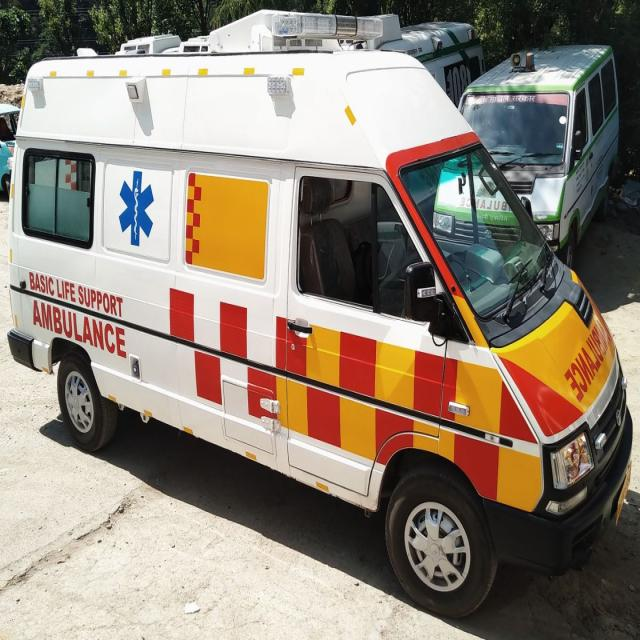ambulance: (8, 11, 634, 612)
